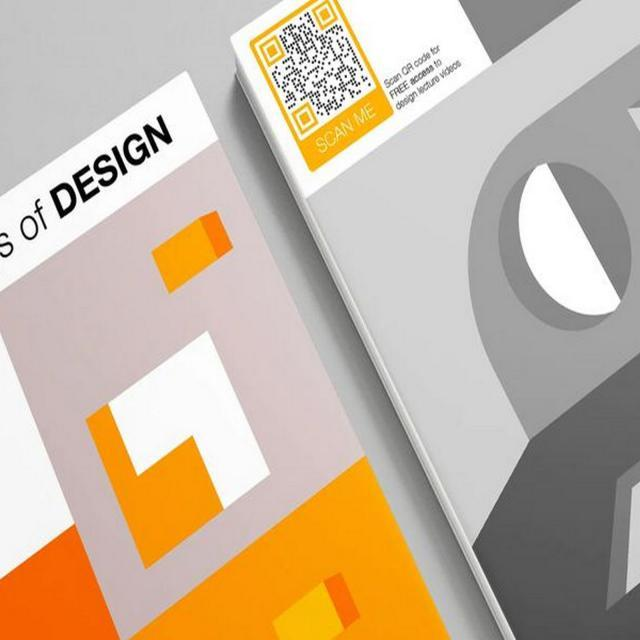qr_code: (258, 0, 372, 136)
